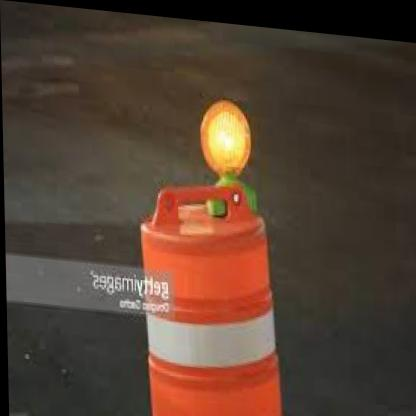obstacle: (136, 174, 302, 416)
